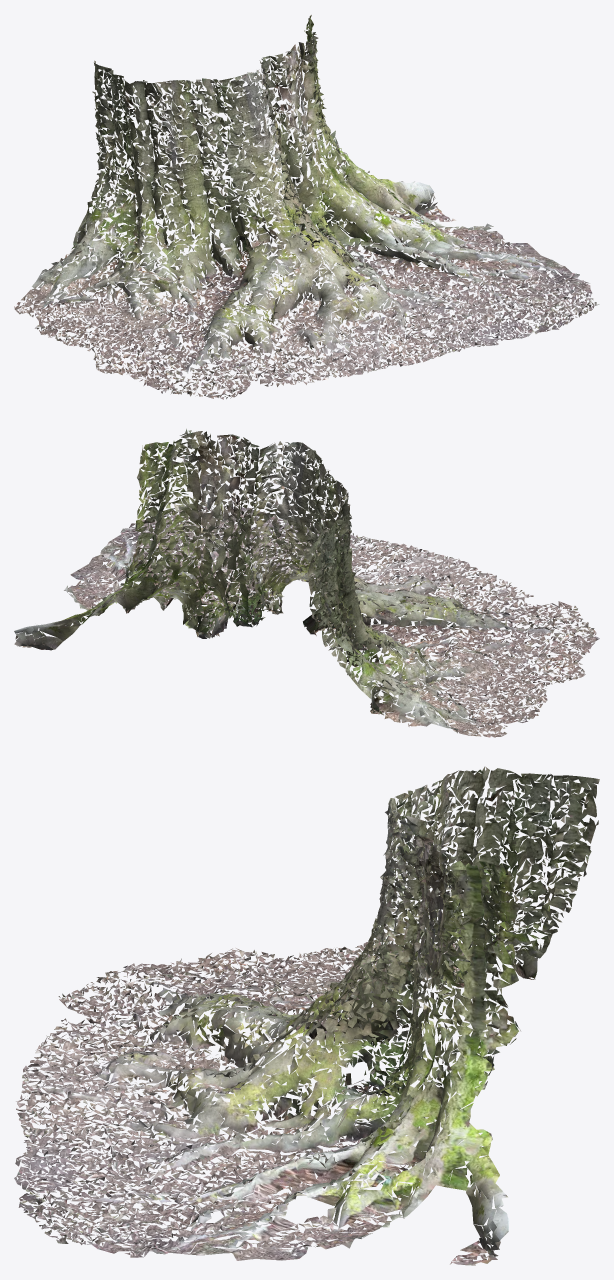
Rendered from arbo_tree_trunk_photogrammetry.glb.
3 renders of one model, top to bottom at view 1: azimuth 30°, elevation 25°; view 2: azimuth 150°, elevation 25°; view 3: azimuth 270°, elevation 25°, orthographic. The views are drawn at different scales.
Visible parts, largest first — view 1: Object_2; view 2: Object_2; view 3: Object_2.
Boxes of the visible parts, <box> form: Object_2: <box>14,15,599,399</box>; Object_2: <box>14,428,599,737</box>; Object_2: <box>14,766,599,1265</box>.
Size of the model in its own units: 4.28 by 2 by 3.35.
Materials: 1 (1 with a texture image).
